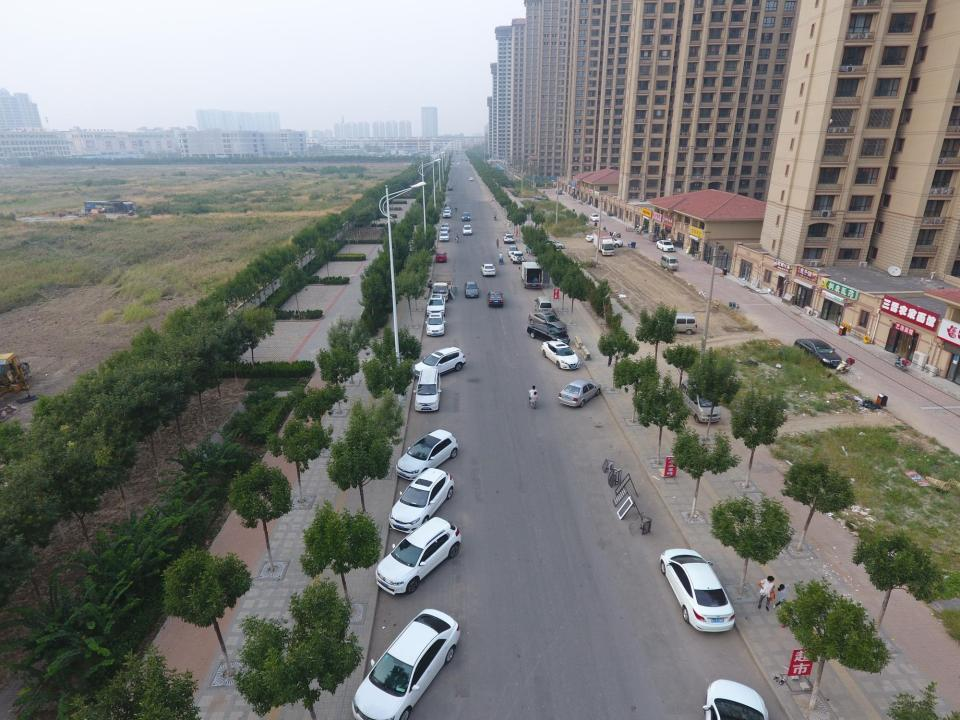car: (351, 606, 462, 720), (658, 546, 736, 634), (376, 516, 462, 595), (386, 468, 456, 535), (392, 428, 461, 481), (704, 676, 770, 720), (680, 378, 722, 424), (794, 336, 842, 368), (413, 348, 467, 375), (558, 379, 602, 409), (542, 339, 580, 369), (415, 370, 441, 412), (528, 322, 569, 346), (530, 313, 568, 334), (663, 313, 698, 335), (427, 311, 445, 337), (428, 294, 446, 314), (534, 296, 553, 314), (431, 281, 449, 299), (660, 252, 678, 269), (486, 290, 504, 306), (540, 239, 566, 249), (464, 281, 479, 298), (656, 238, 674, 252), (604, 235, 623, 248), (481, 262, 495, 277), (510, 251, 523, 265), (585, 232, 601, 242), (435, 251, 448, 263), (504, 233, 515, 243), (463, 224, 472, 236), (508, 246, 518, 256), (438, 232, 448, 241), (590, 213, 600, 222), (462, 212, 470, 221), (440, 227, 449, 235), (535, 195, 547, 201), (443, 210, 451, 218), (442, 224, 450, 230), (444, 207, 450, 213), (444, 202, 450, 208), (555, 190, 562, 194), (448, 185, 453, 190), (468, 176, 473, 180), (458, 162, 461, 165)
truck: (520, 261, 542, 289), (594, 232, 614, 256)
